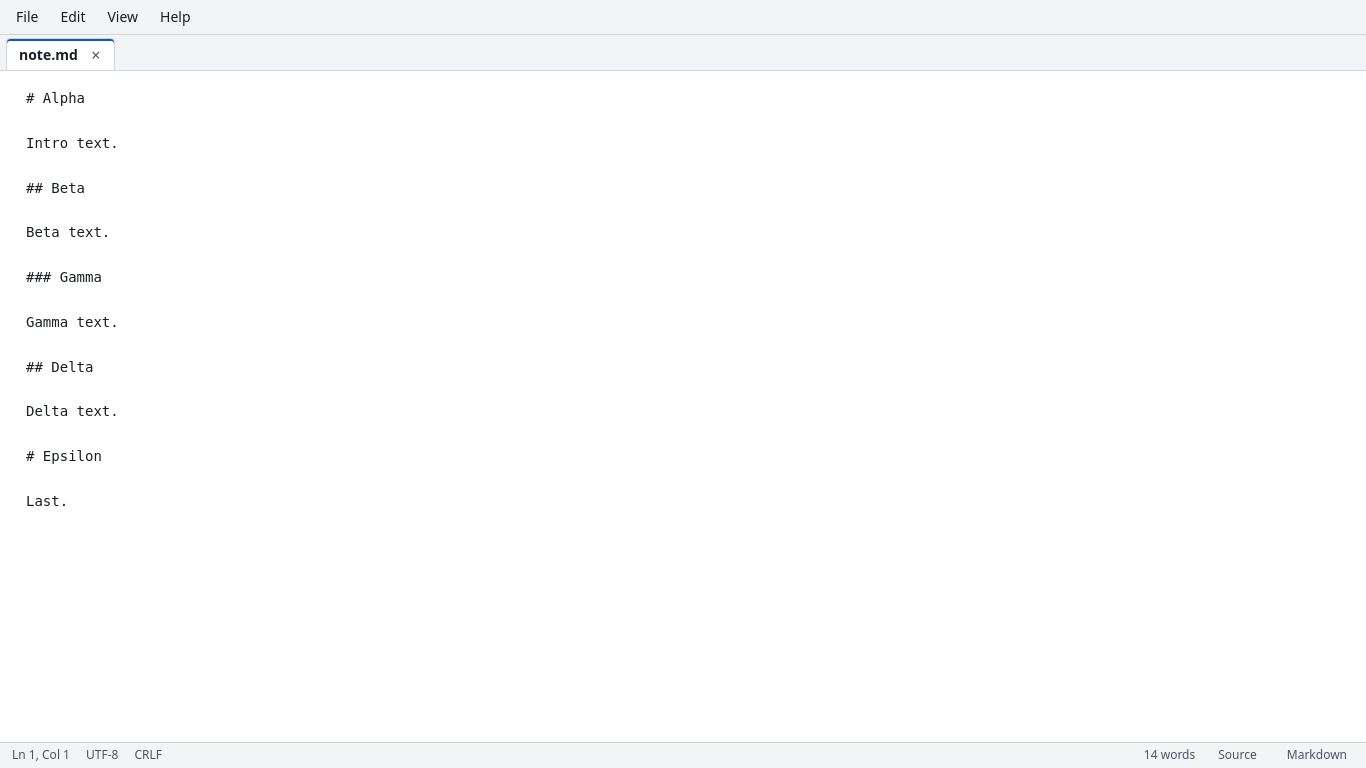
the outline pane › toggles with its key, and is in the View menu
Expected: the element "Outline" is not shown
Press o
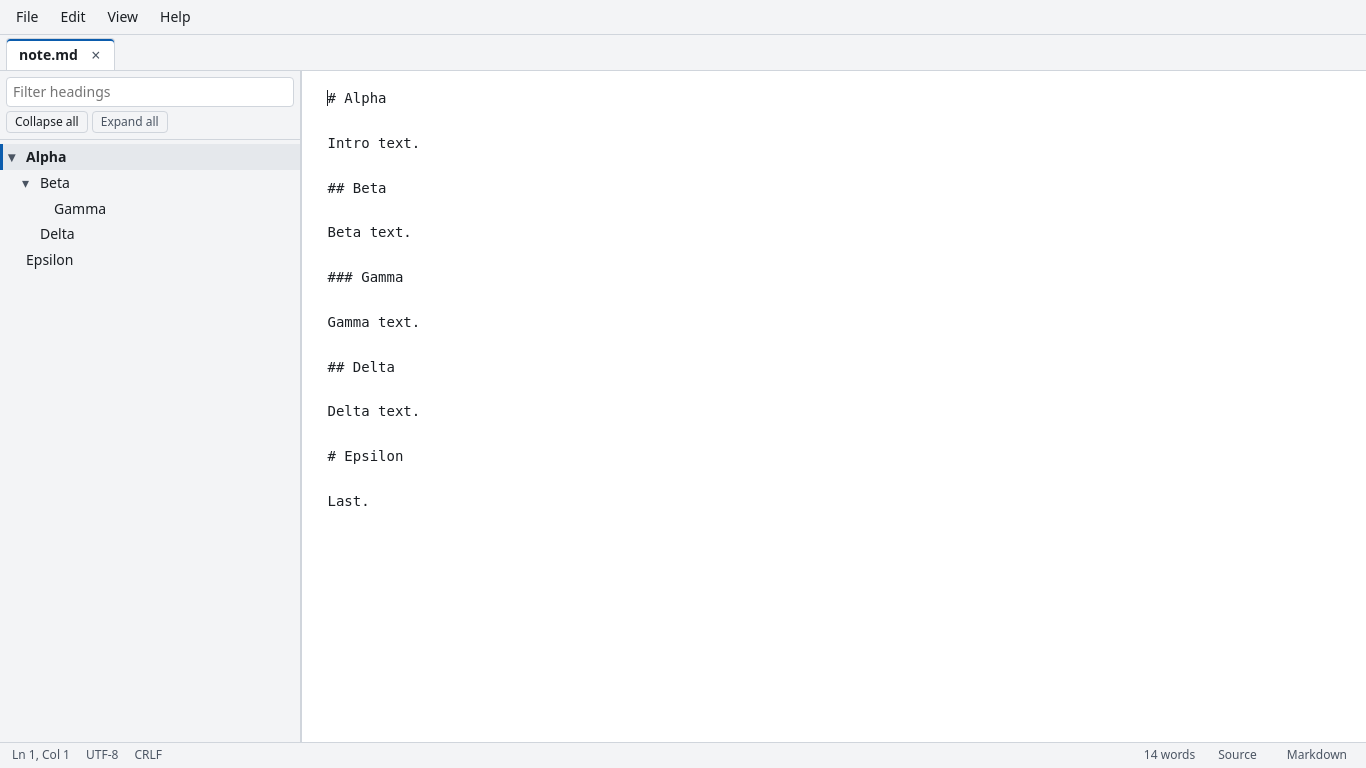
Expected: the element named "Outline" is shown, [0,71,300,742]
Press o
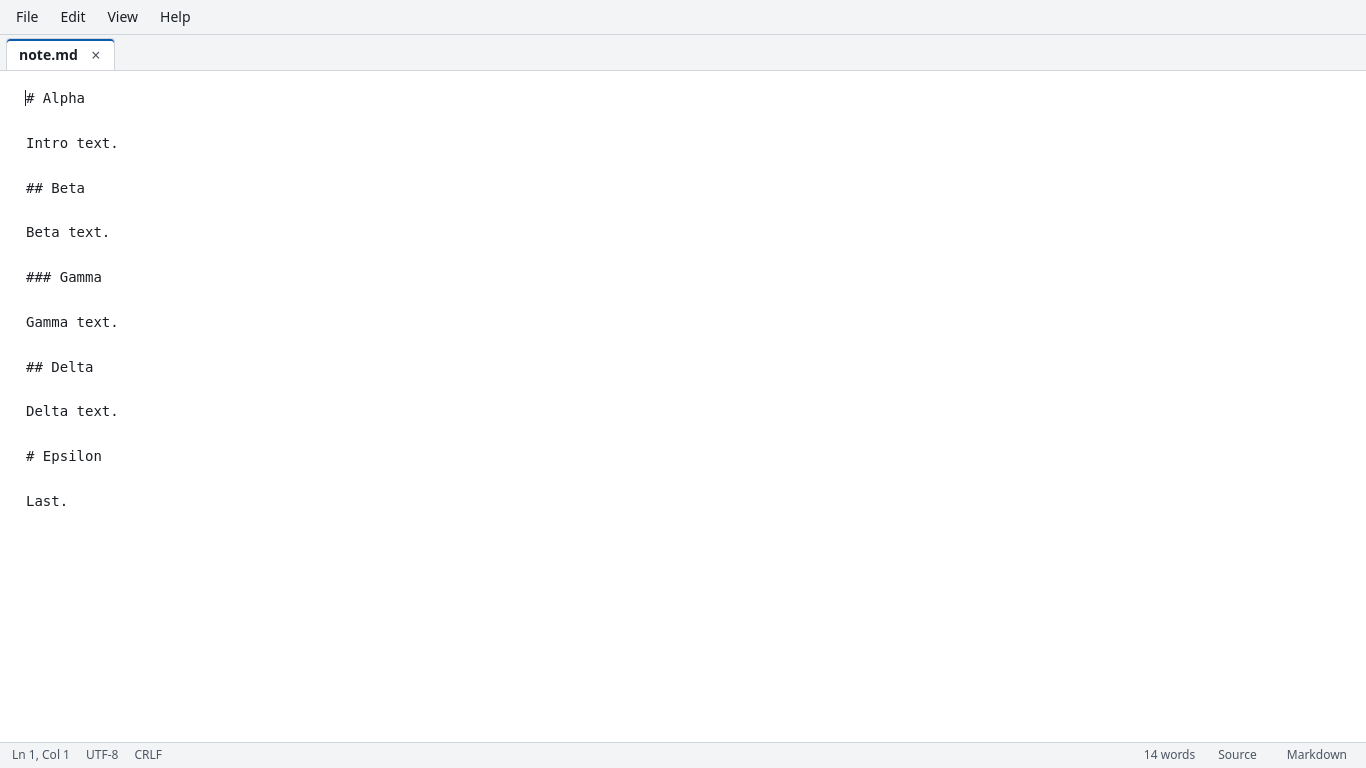
Expected: the element "Outline" is gone
Click the menu item "View" at (123, 17), box [98,3,148,31]
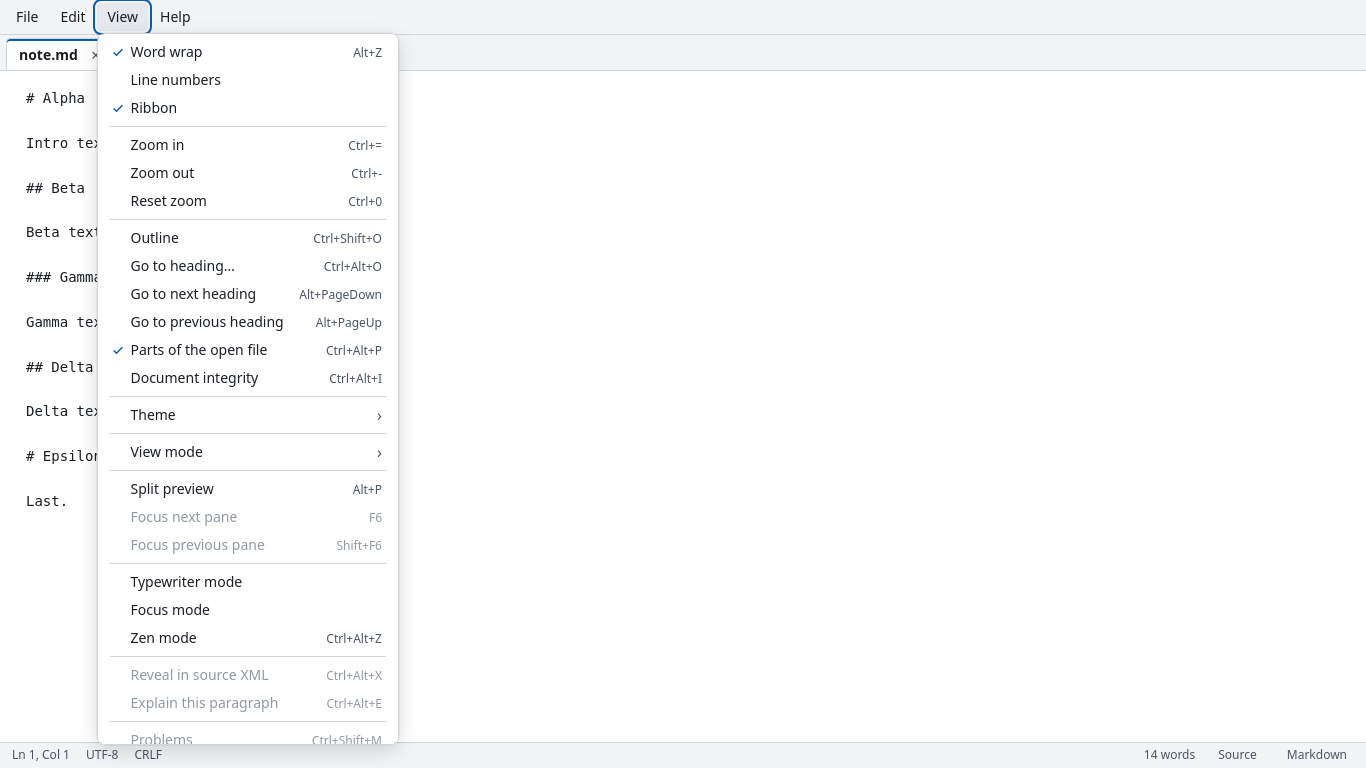
Expected: the menu item "Outline Ctrl+Shift+O" is shown, [102,224,394,252]
